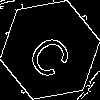C: (25, 25, 81, 83)
